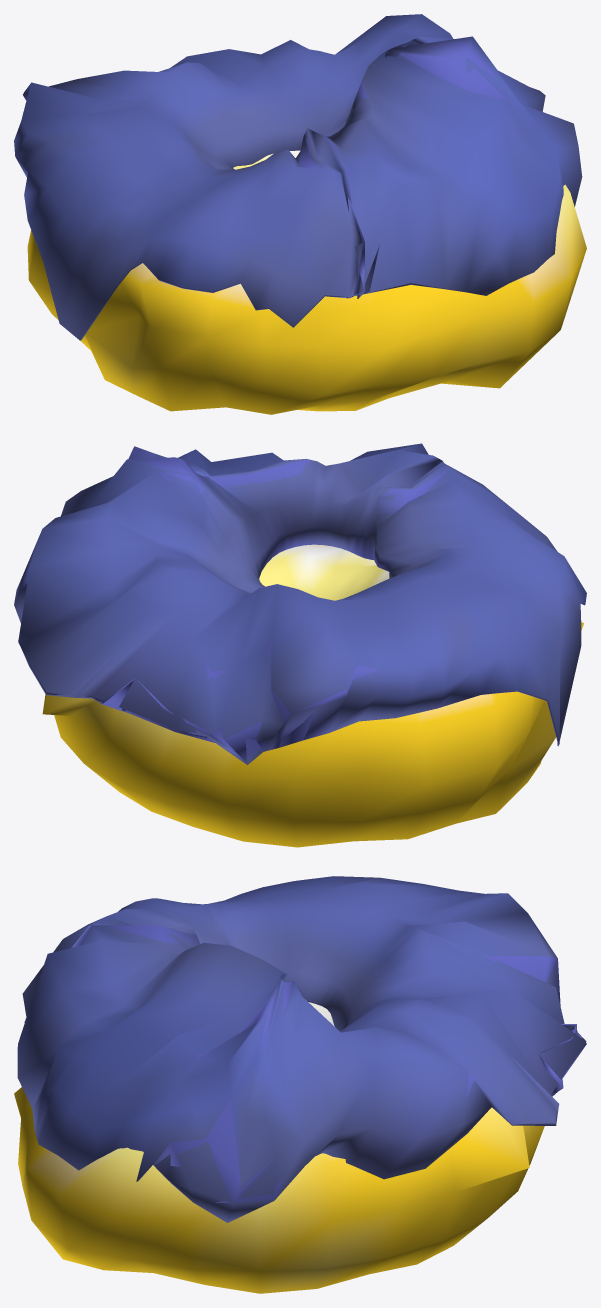
The model's file is better finished do  nut 9-9-2022.glb.
The picture shows the model from 3 angles, top to bottom: view 1: azimuth 30°, elevation 25°; view 2: azimuth 150°, elevation 25°; view 3: azimuth 270°, elevation 25°; orthographic projection. The views are drawn at different scales.
Visible parts, largest first — view 1: icing, donut; view 2: icing, donut; view 3: icing, donut.
Boxes of the visible parts, <box> form: icing: <box>14,14,582,340</box>; donut: <box>27,150,586,414</box>; icing: <box>14,443,586,764</box>; donut: <box>42,544,583,847</box>; icing: <box>17,876,586,1222</box>; donut: <box>14,1002,544,1293</box>.
Size of the model in its own units: 3.2 by 1.72 by 3.04.
